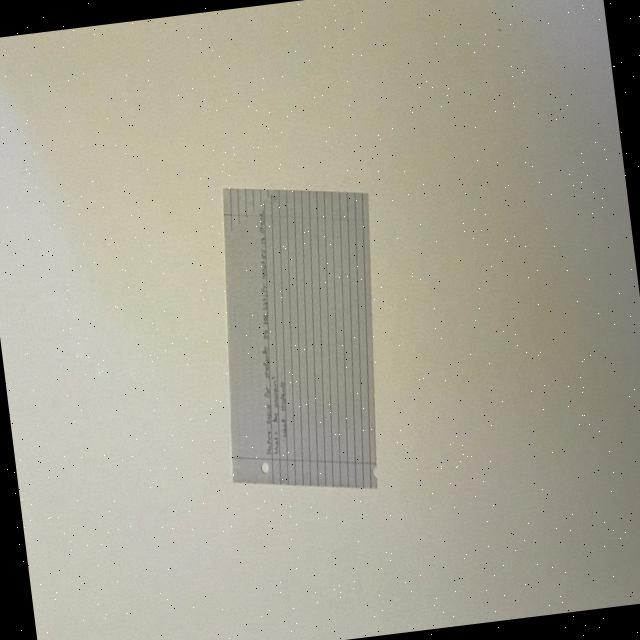paper: (196, 169, 403, 505)
